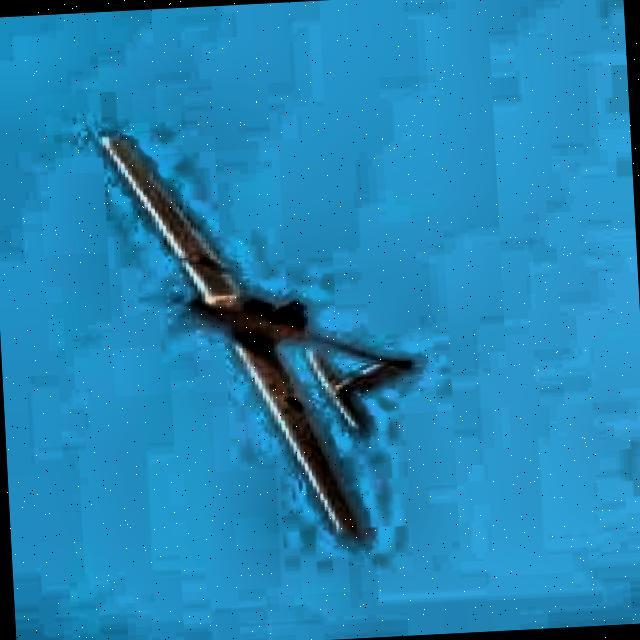iha: (90, 82, 433, 558)
